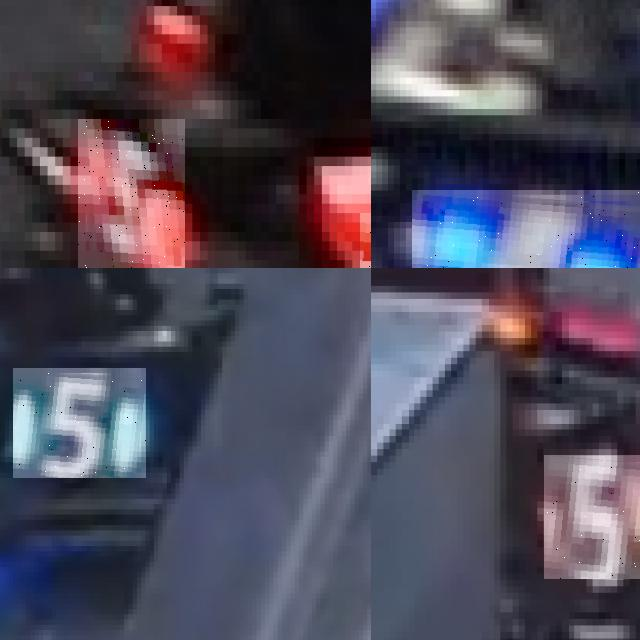B4: (412, 190, 640, 268)
B5: (13, 368, 146, 478)
R5: (78, 119, 184, 268), (543, 455, 640, 579)
